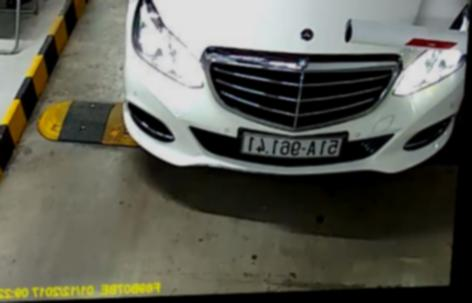License_Plate: (235, 133, 349, 160)
